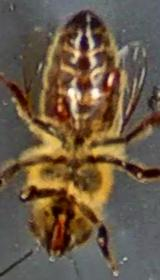varroa_mite: (95, 65, 129, 94), (50, 93, 74, 125)
